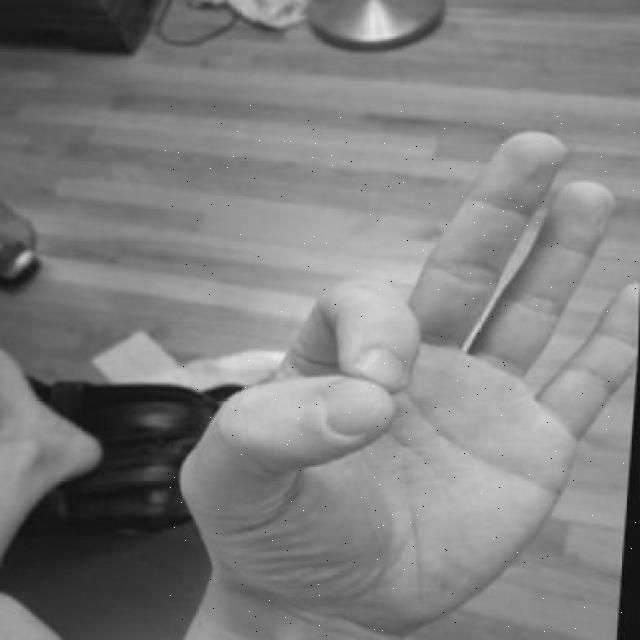F: (164, 103, 638, 638)
